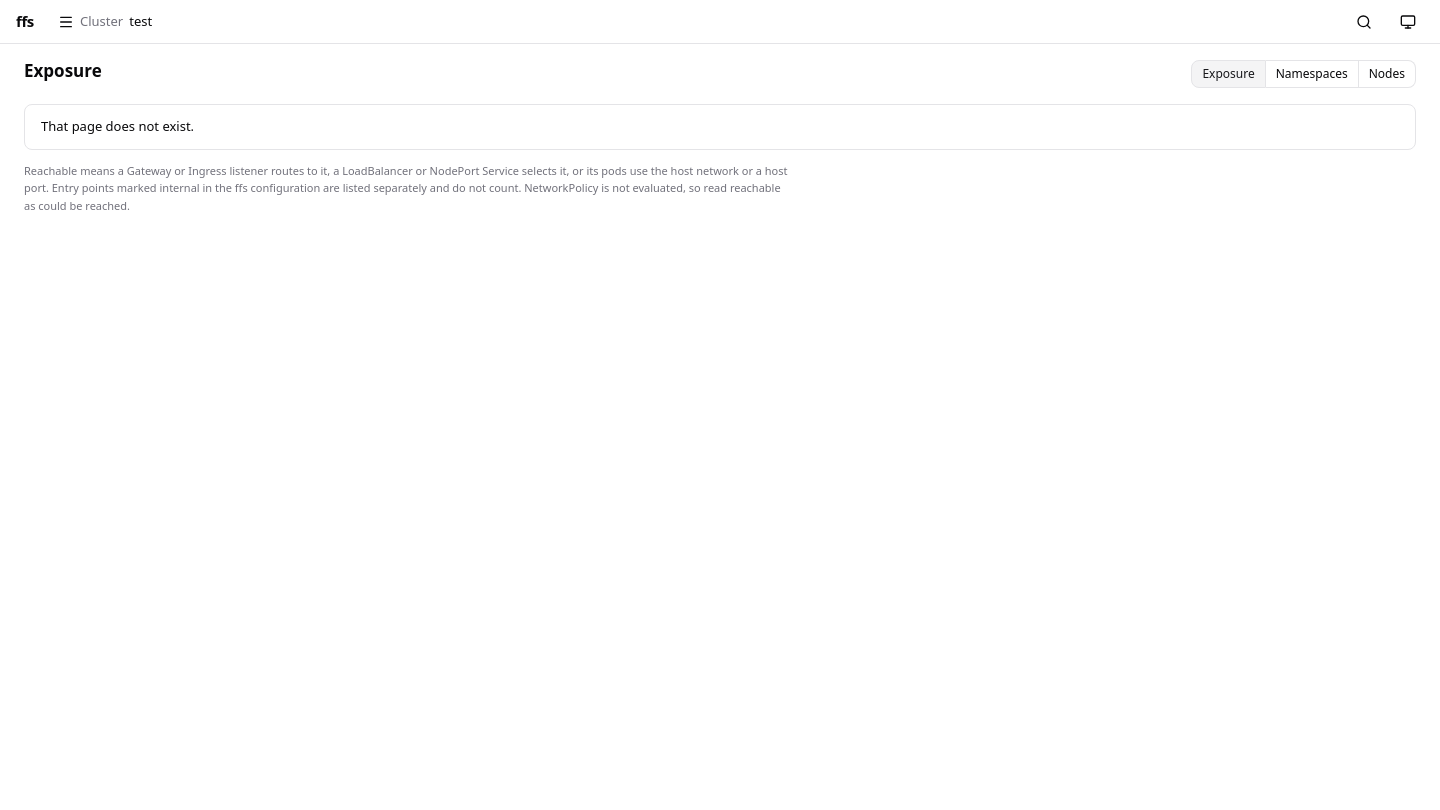
Test case: the drawer closes when one of its links navigates
Click the button with aria-label "Open navigation": (105, 22) [46,2,164,42]
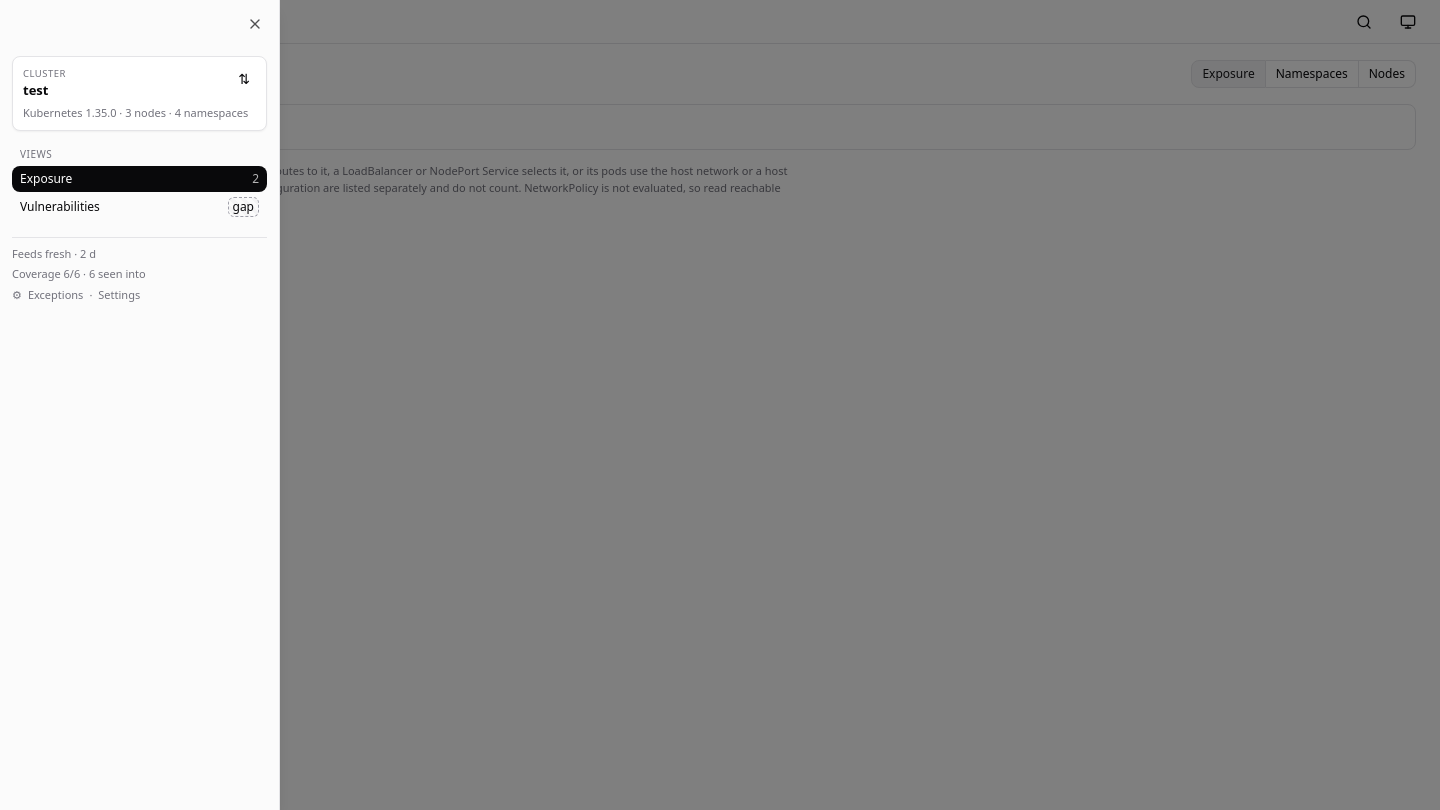
Click the link "Vulnerabilities gap": (60, 206) [12,193,267,221]
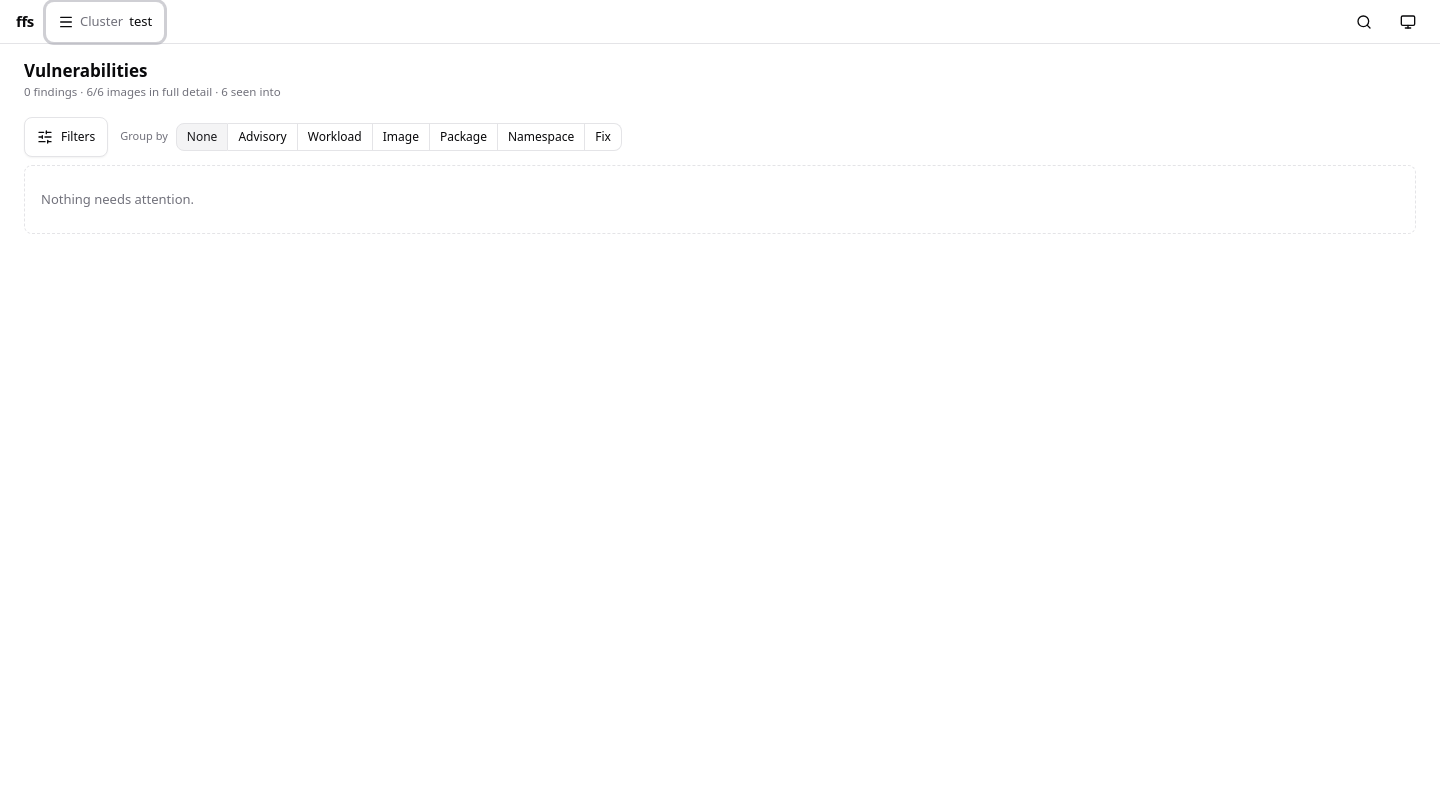
Expected: the dialog is gone
